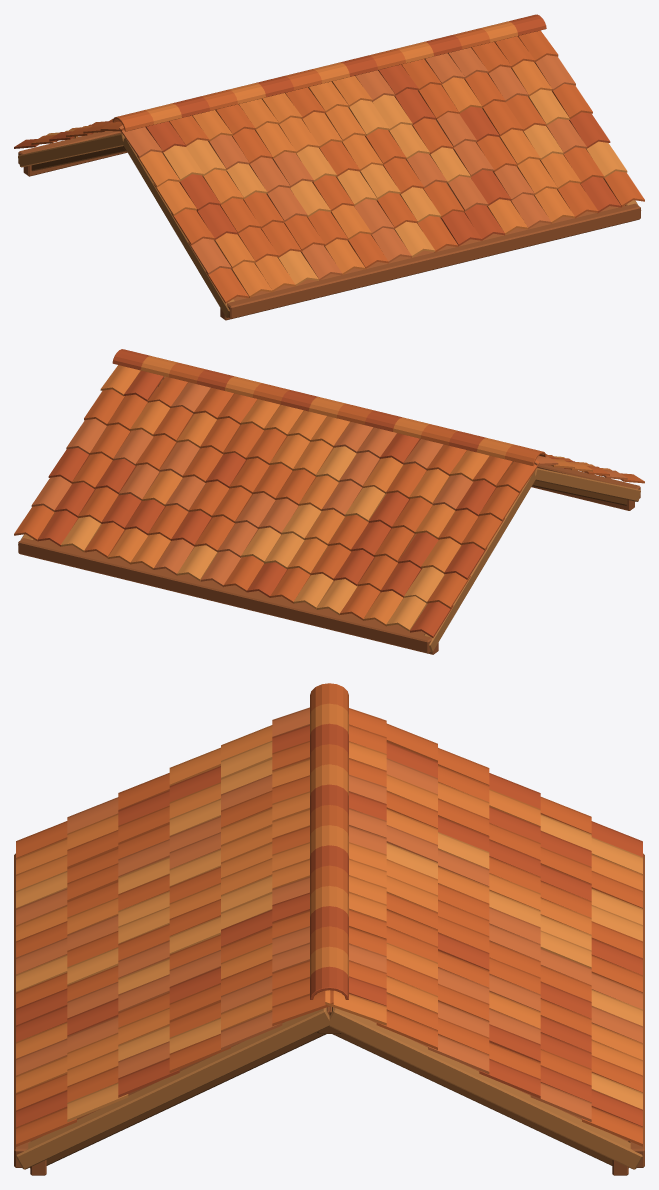
File: wsc-module-030-terracotta-gable-roof.glb
The picture shows the model from 3 angles, top to bottom: view 1: azimuth 30°, elevation 25°; view 2: azimuth 150°, elevation 25°; view 3: azimuth 270°, elevation 25°; orthographic projection. The views are drawn at different scales.
Visible parts, largest first — view 1: clay0, clay1, clay4, clay3, clay2, wood2, wood1, edge; view 2: clay0, clay1, clay2, clay4, wood2, clay3, wood1, edge; view 3: clay0, clay1, clay4, clay2, clay3, wood1, edge, wood2.
Boxes of the visible parts, x1=… form: clay0: x1=31, y1=28, x2=644, y2=303; clay1: x1=69, y1=21, x2=580, y2=297; clay4: x1=119, y1=47, x2=586, y2=280; clay3: x1=46, y1=89, x2=627, y2=285; clay2: x1=14, y1=14, x2=621, y2=246; wood2: x1=18, y1=90, x2=640, y2=320; wood1: x1=18, y1=133, x2=641, y2=317; edge: x1=31, y1=146, x2=126, y2=171; clay0: x1=14, y1=362, x2=644, y2=620; clay1: x1=100, y1=356, x2=611, y2=626; clay2: x1=37, y1=349, x2=575, y2=637; clay4: x1=31, y1=382, x2=627, y2=587; wood2: x1=18, y1=379, x2=640, y2=654; clay3: x1=61, y1=446, x2=564, y2=631; wood1: x1=18, y1=376, x2=640, y2=652; edge: x1=158, y1=378, x2=627, y2=505; clay0: x1=16, y1=683, x2=642, y2=1146; clay1: x1=16, y1=703, x2=642, y2=1093; clay4: x1=16, y1=707, x2=642, y2=1121; clay2: x1=16, y1=723, x2=642, y2=1127; clay3: x1=16, y1=741, x2=642, y2=1122; wood1: x1=16, y1=1007, x2=642, y2=1169; edge: x1=30, y1=1026, x2=628, y2=1167; wood2: x1=14, y1=853, x2=644, y2=1175.
Bounding box in the file's own units: 5.32 × 1.57 × 4.66.
